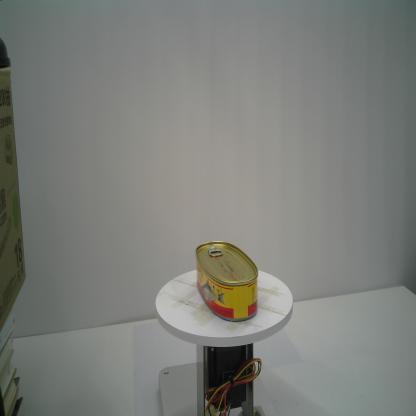Canned Food: (193, 238, 260, 323)
